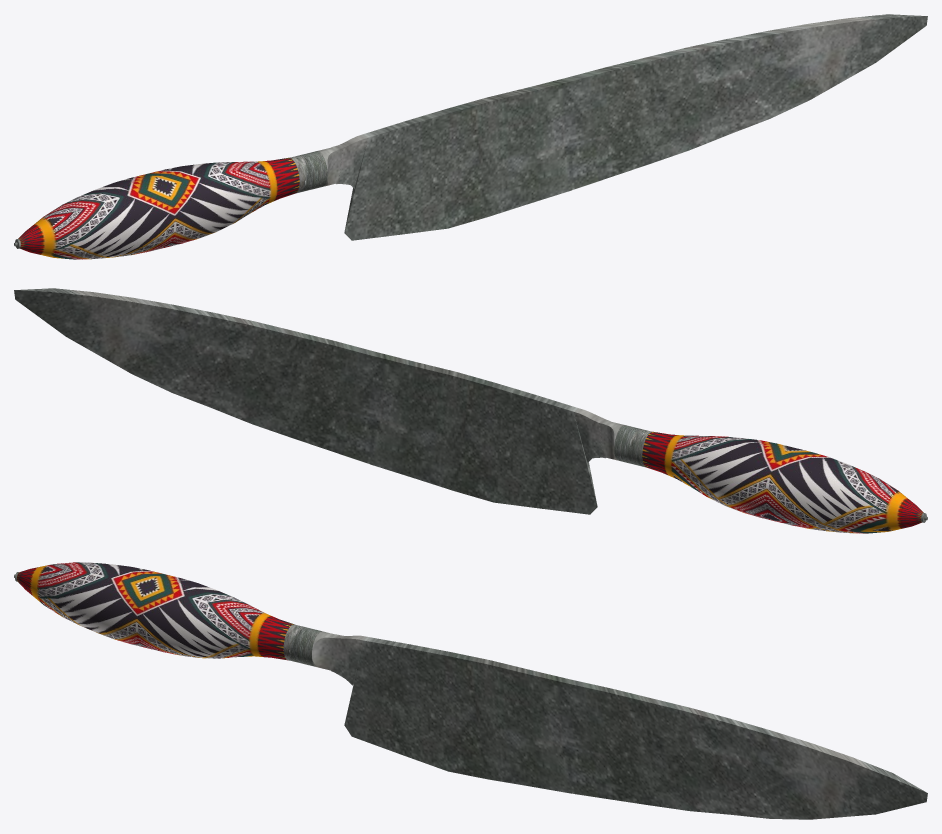
The model's file is knife.fbx.
3 views of the same model, one above another, from view 1: azimuth 30°, elevation 25°; view 2: azimuth 150°, elevation 25°; view 3: azimuth 330°, elevation 25° (orthographic).
Parts seen in each view (by area): view 1: Edge, Handle; view 2: Edge, Handle; view 3: Edge, Handle.
Boxes of the visible parts, x1=… form: Edge: x1=318, y1=14, x2=927, y2=240; Handle: x1=14, y1=151, x2=327, y2=259; Edge: x1=14, y1=288, x2=623, y2=514; Handle: x1=614, y1=425, x2=927, y2=533; Edge: x1=312, y1=631, x2=927, y2=819; Handle: x1=14, y1=562, x2=321, y2=666.
Size of the model in its own units: 28.3 by 3.63 by 2.07.
2 materials, 2 textured.
